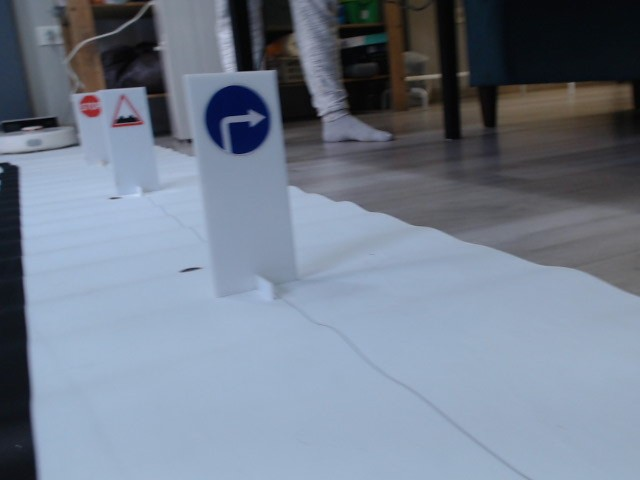Nerov: (108, 94, 145, 129)
Right: (202, 82, 271, 157)
